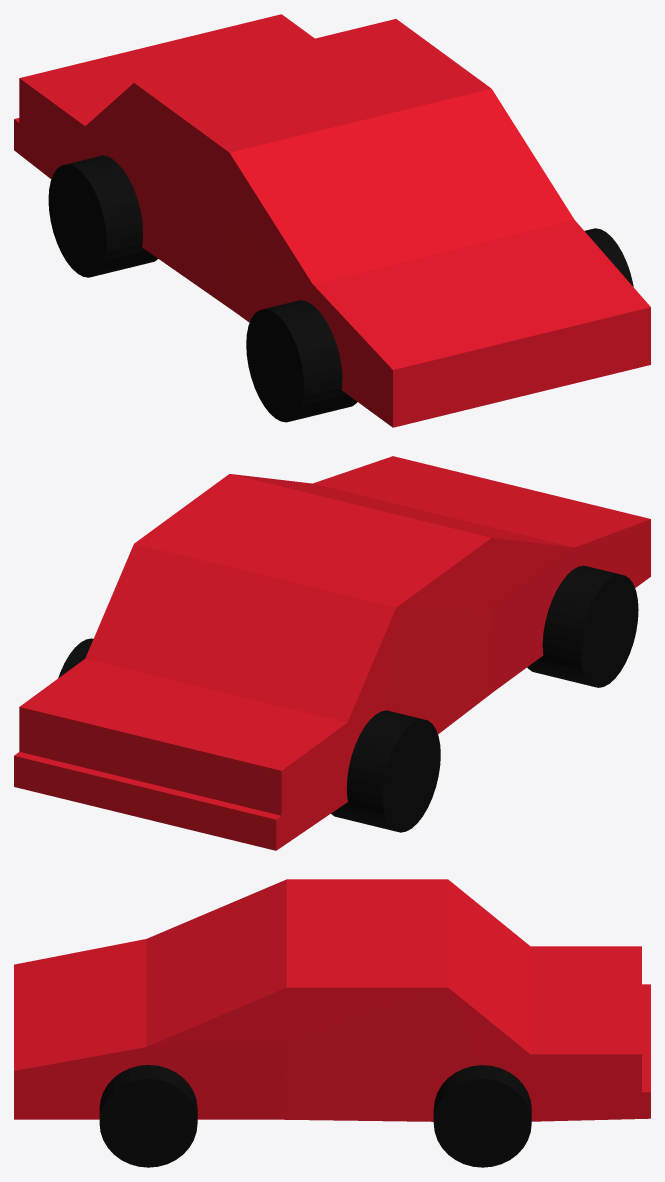
File: car.glb
3 views of the same model, one above another, from view 1: azimuth 30°, elevation 25°; view 2: azimuth 150°, elevation 25°; view 3: azimuth 270°, elevation 25° (orthographic). The views are drawn at different scales.
Visible parts, largest first — view 1: Cube, Circle, Circle.003, Circle.002; view 2: Cube, Circle, Circle.003; view 3: Cube, Circle.002, Circle.001.
Part boxes in pixels (<box>): Cube: <box>14,14,650,427</box>; Circle: <box>246,300,357,422</box>; Circle.003: <box>48,155,157,277</box>; Circle.002: <box>585,228,633,286</box>; Cube: <box>14,456,650,850</box>; Circle: <box>527,565,638,687</box>; Circle.003: <box>331,710,440,832</box>; Cube: <box>14,879,650,1121</box>; Circle.002: <box>99,1065,197,1167</box>; Circle.001: <box>433,1065,531,1167</box>.
Size of the model in its own units: 1.19 by 0.6757 by 2.34.
